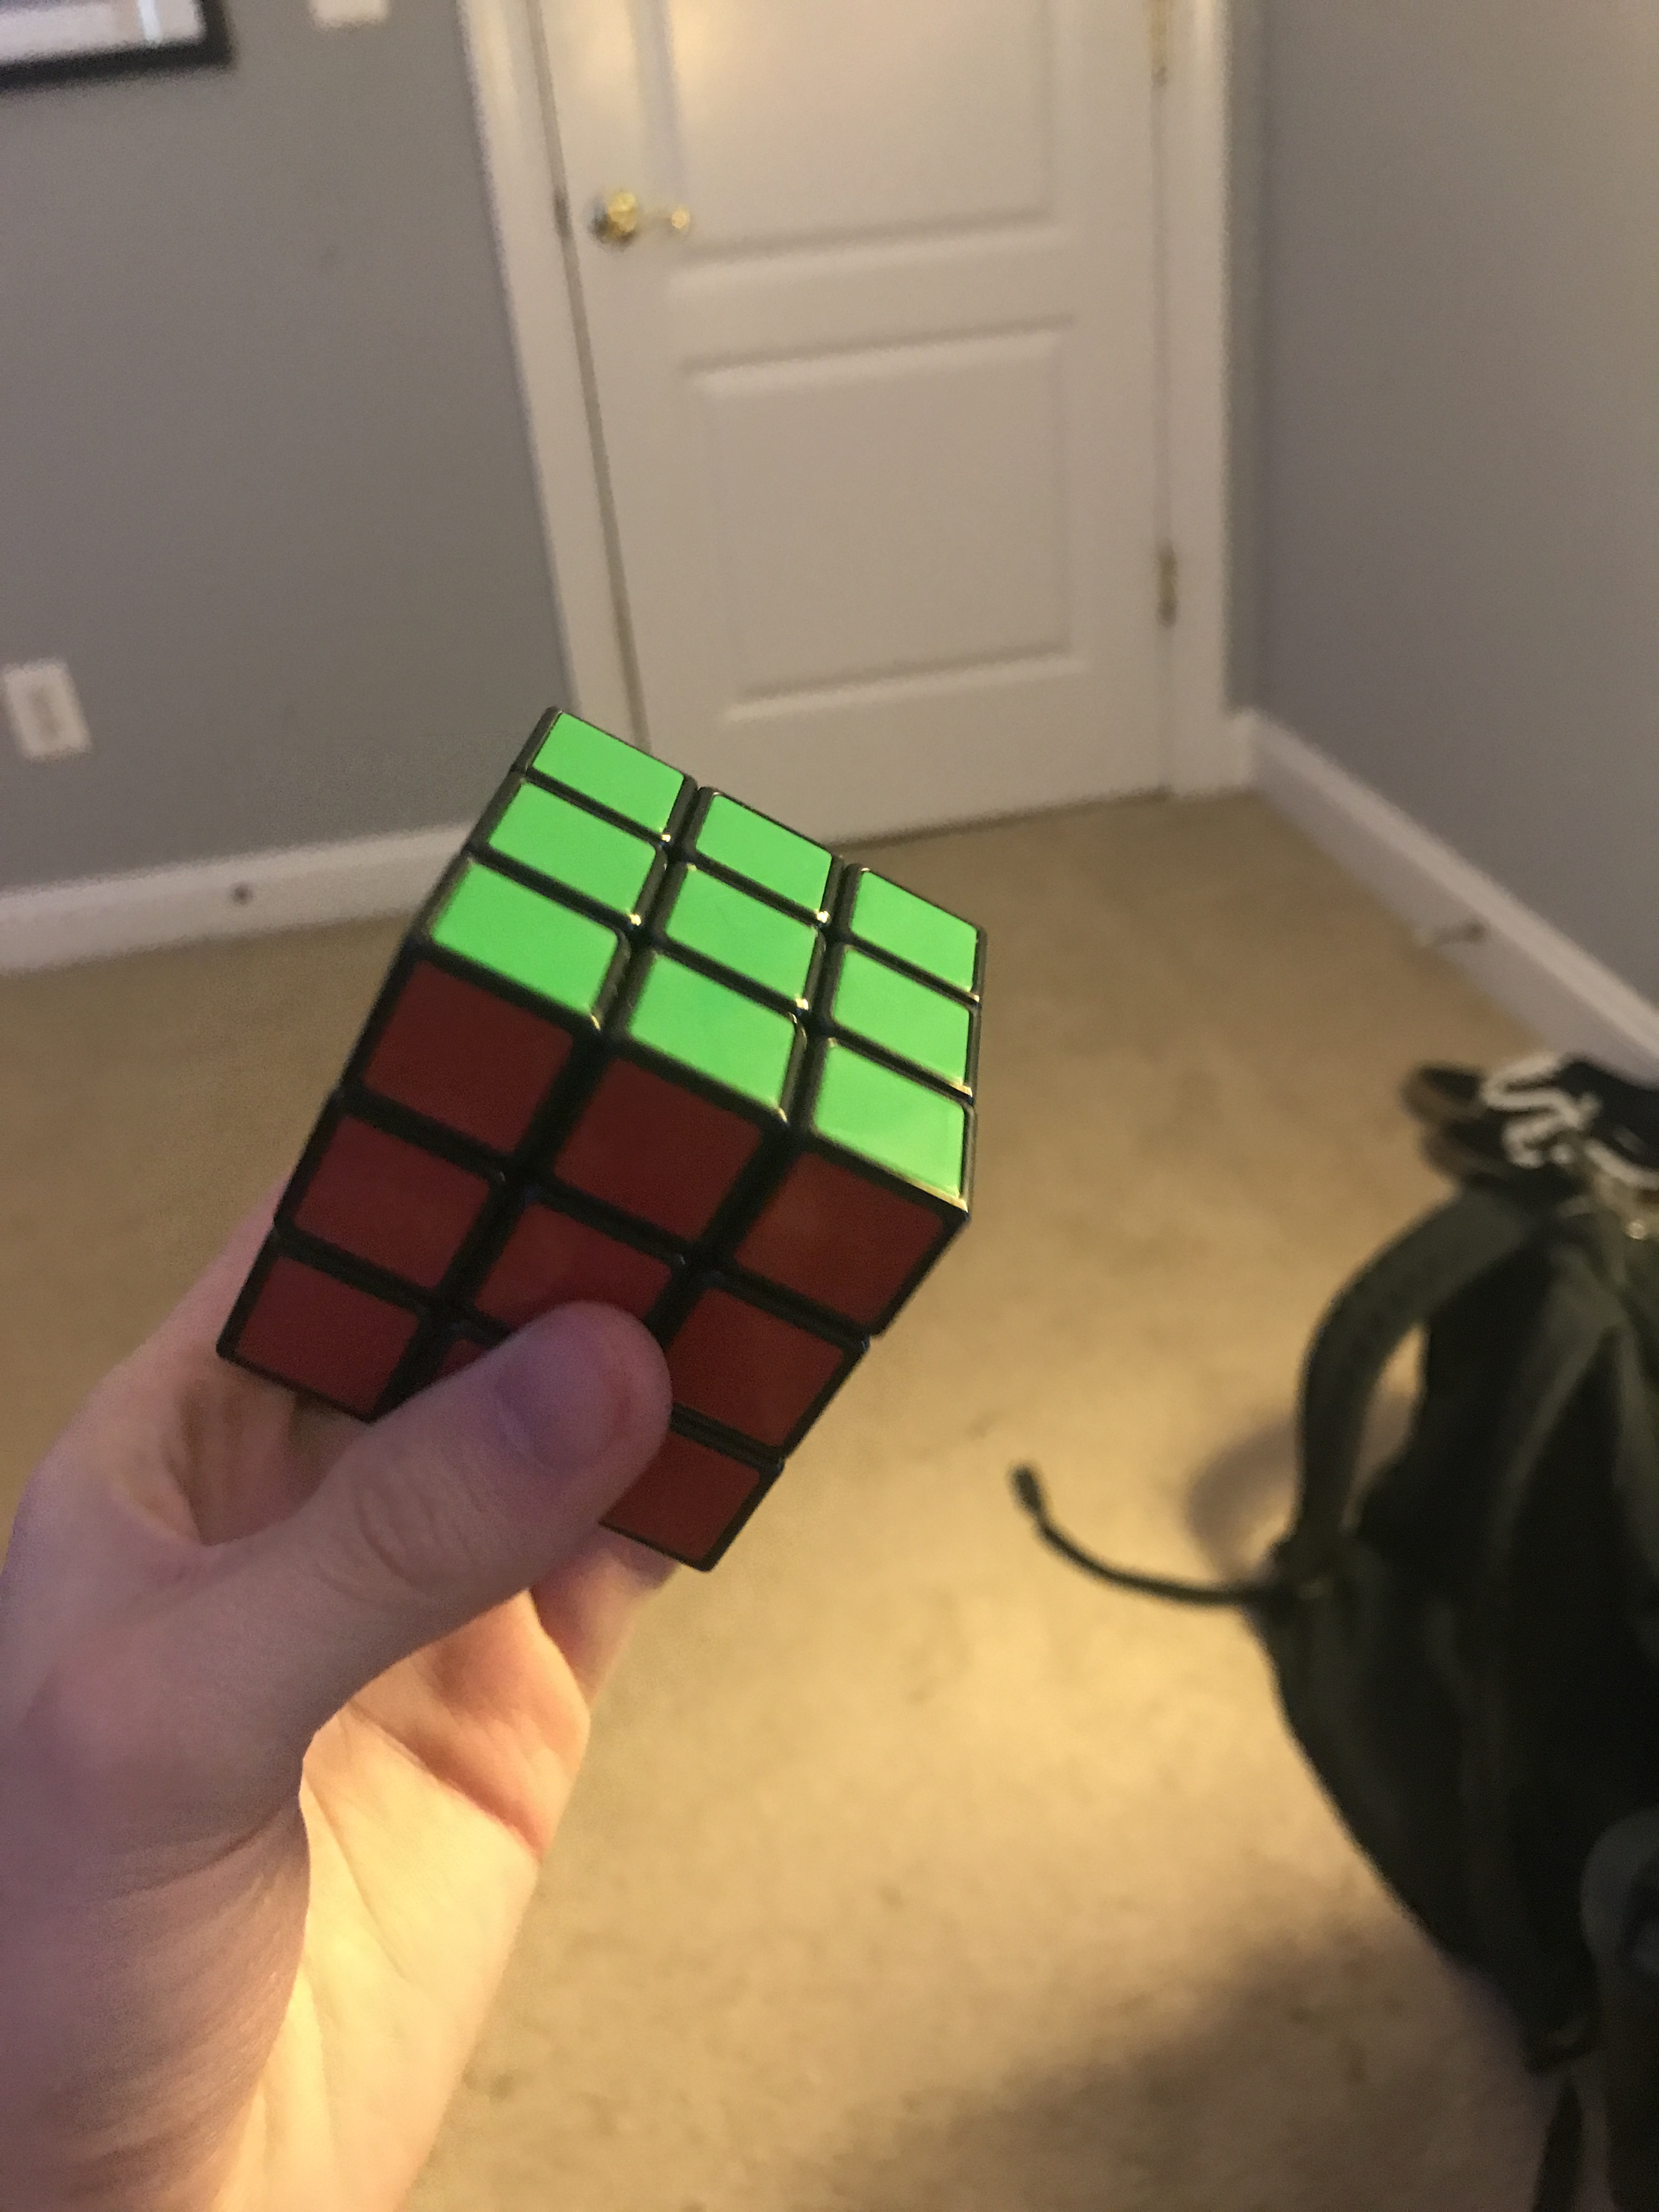rubiks: (214, 719, 1061, 1576)
